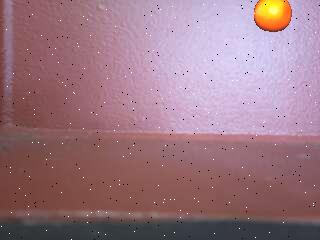Orange: (253, 0, 292, 33)
